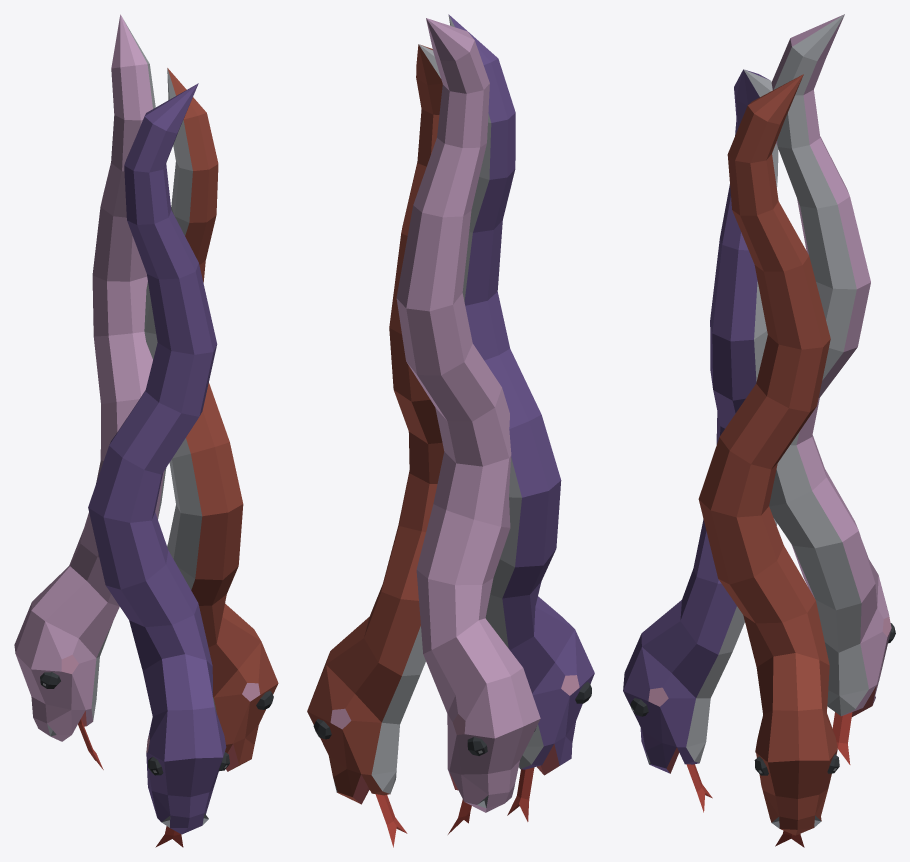
The model's file is SM_Prop_Plushies_Grouped_02.glb.
3 views of the same model, side by side, from view 1: azimuth 30°, elevation 25°; view 2: azimuth 150°, elevation 25°; view 3: azimuth 270°, elevation 25° (orthographic). The views are drawn at different scales.
Parts seen in each view (by area): view 1: SM_Prop_Plushies_Grouped_02; view 2: SM_Prop_Plushies_Grouped_02; view 3: SM_Prop_Plushies_Grouped_02.
Part boxes in pixels (x1,y1,x2,y2): SM_Prop_Plushies_Grouped_02: [14, 14, 278, 847]; SM_Prop_Plushies_Grouped_02: [307, 14, 594, 847]; SM_Prop_Plushies_Grouped_02: [623, 14, 895, 847].
Size of the model in its own units: 38.56 by 131 by 39.94.
1 material, 1 textured.
